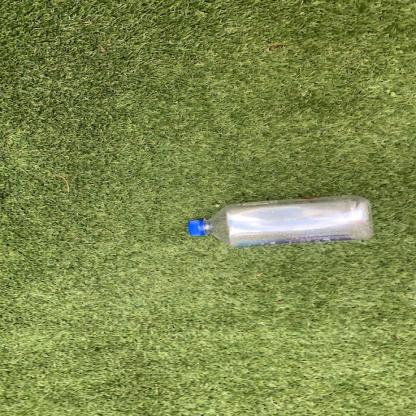trash: (185, 196, 377, 243)
